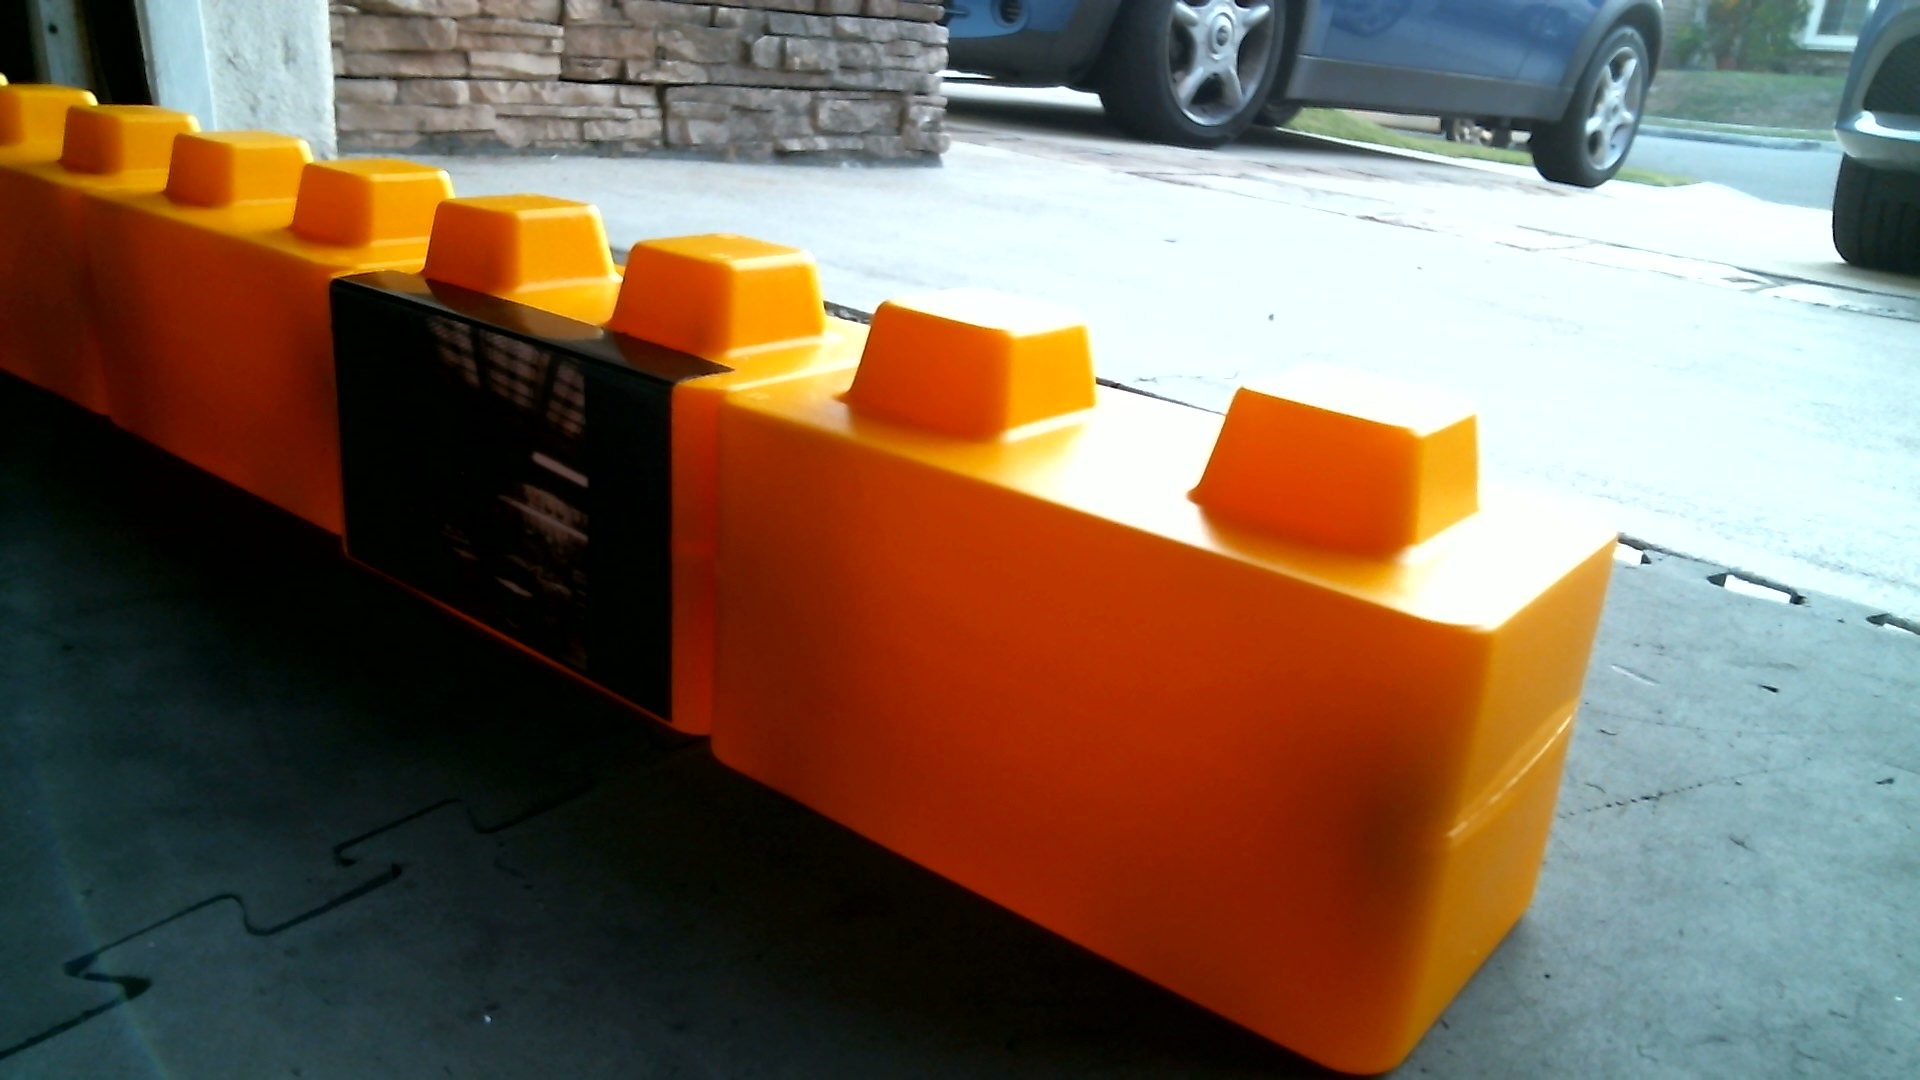center: (76, 104, 1631, 1076)
